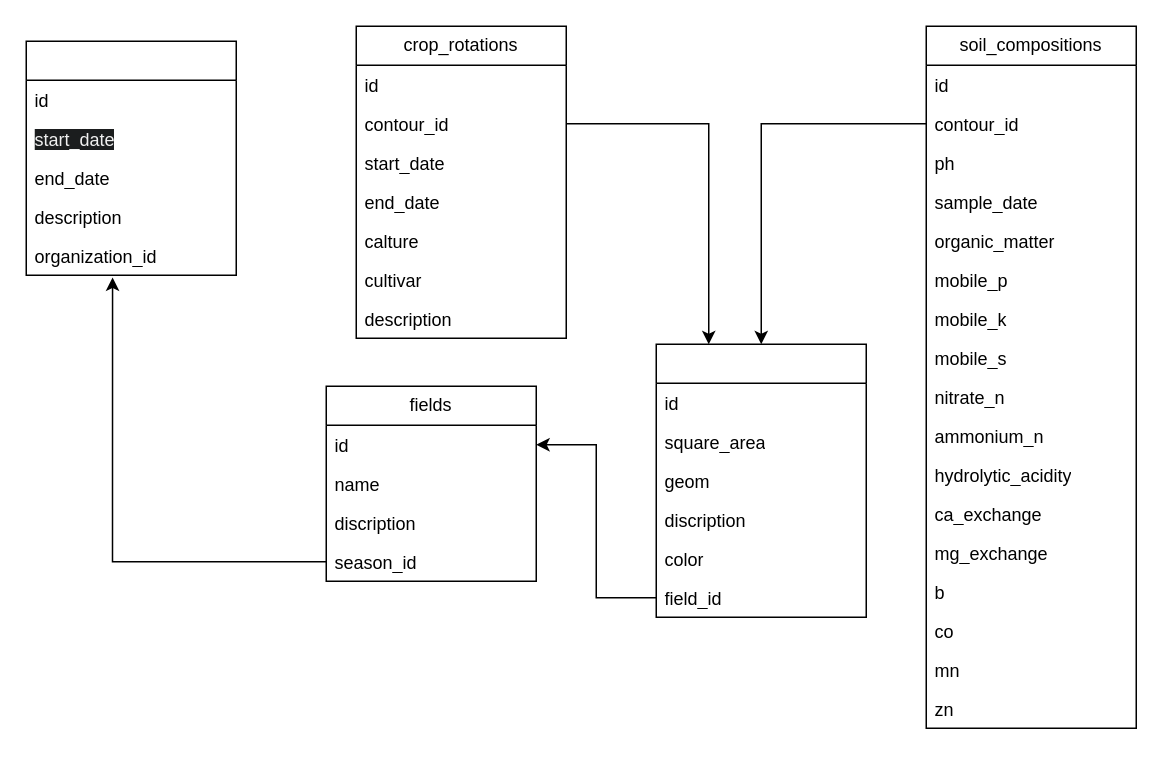
This 1163x759 diagram has some shape labels left out. The shapes that lost their labels are listed below. From the top down, each one's box as (x1, y1, x2, y2) in pixels, then its label:
(25, 40, 236, 275): seasons
(655, 343, 866, 617): contours
